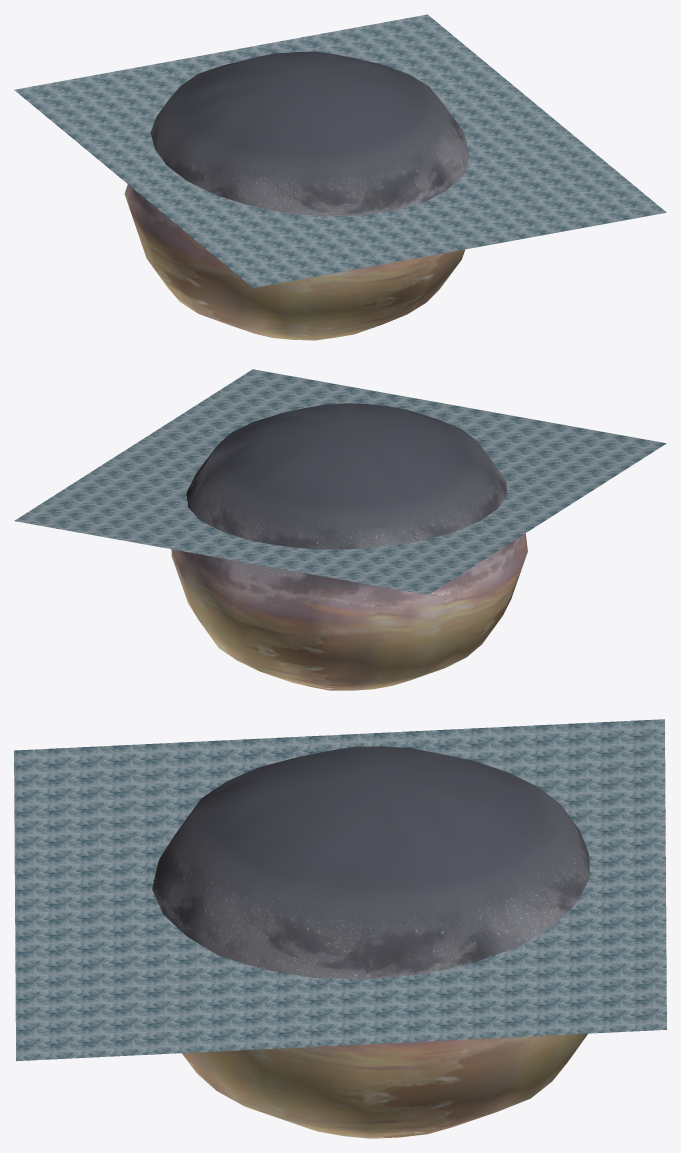
Rendered from City.fbx.
3 renders of one model, top to bottom at view 1: azimuth 30°, elevation 25°; view 2: azimuth 150°, elevation 25°; view 3: azimuth 270°, elevation 25°, orthographic. The views are drawn at different scales.
Parts seen in each view (by area): view 1: D1bingmian01, 21SKY1CS01a; view 2: 21SKY1CS01a, D1bingmian01; view 3: D1bingmian01, 21SKY1CS01a.
Part boxes in pixels (left/top/right/bottom): D1bingmian01: left=14, top=14, right=666, bottom=287; 21SKY1CS01a: left=124, top=51, right=469, bottom=340; 21SKY1CS01a: left=171, top=403, right=527, bottom=690; D1bingmian01: left=14, top=369, right=666, bottom=594; D1bingmian01: left=14, top=719, right=666, bottom=1061; 21SKY1CS01a: left=152, top=746, right=589, bottom=1138.
Size of what is drawn, in the model's own units: 903 by 509 by 907.
